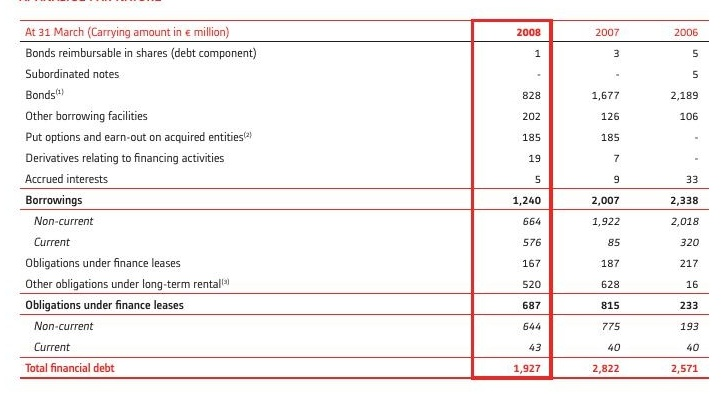table: (0, 0, 724, 394)
